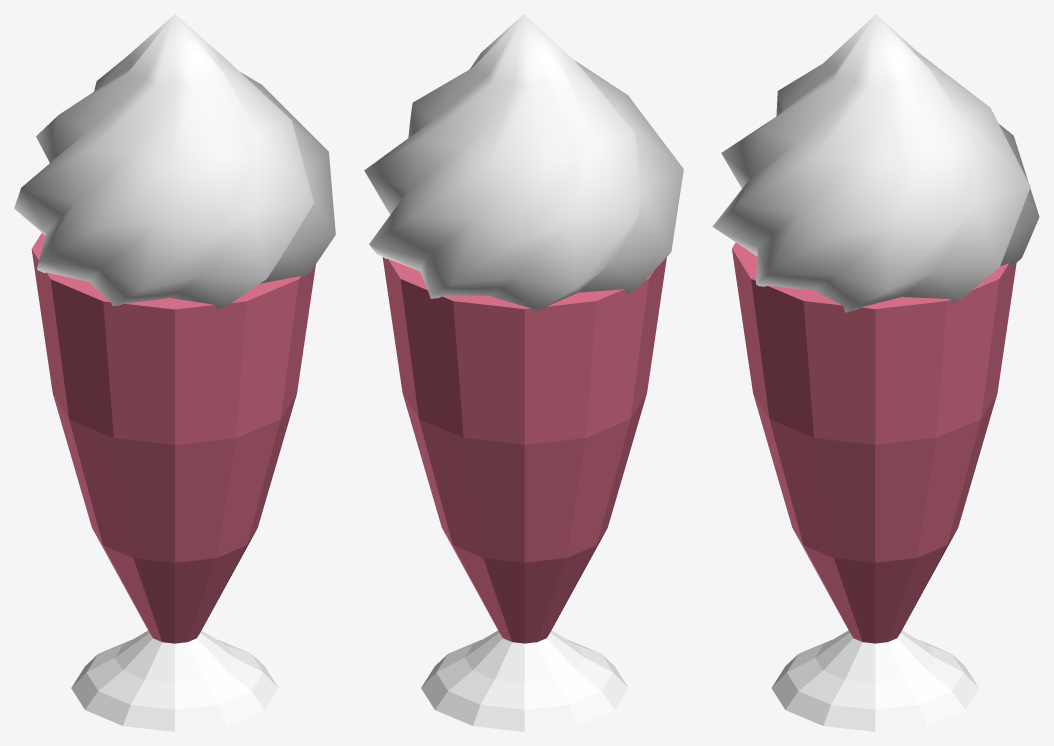
The model's file is CandylandShakeStrawberries.fbx.
3 views of the same model, side by side, from view 1: azimuth 30°, elevation 25°; view 2: azimuth 150°, elevation 25°; view 3: azimuth 270°, elevation 25° (orthographic).
Visible parts, largest first — view 1: CandylandShakeStrawberries; view 2: CandylandShakeStrawberries; view 3: CandylandShakeStrawberries.
Boxes of the visible parts, bbox=[...] form: CandylandShakeStrawberries: bbox=[14, 14, 335, 731]; CandylandShakeStrawberries: bbox=[364, 14, 683, 731]; CandylandShakeStrawberries: bbox=[712, 14, 1039, 731].
Bounding box in the file's own units: 0.6089 × 1.38 × 0.6089.
